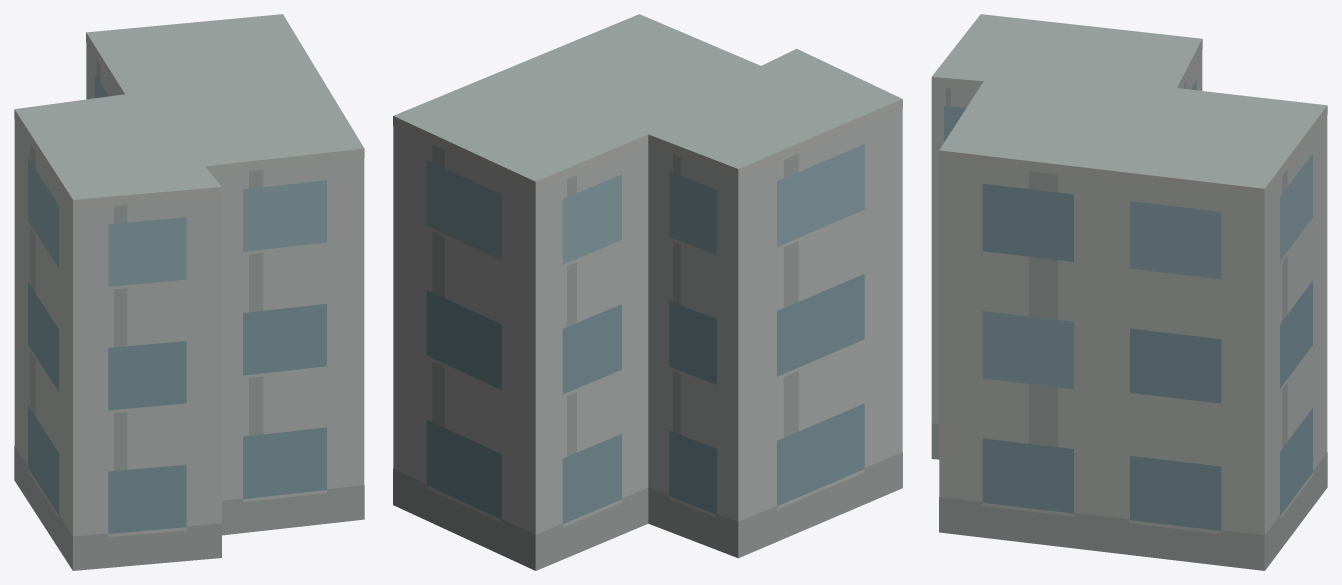
File: survey-upis-32875353.glb
3 views of the same model, side by side, from view 1: azimuth 30°, elevation 25°; view 2: azimuth 150°, elevation 25°; view 3: azimuth 270°, elevation 25° (orthographic). The views are drawn at different scales.
Visible parts, largest first — view 1: survey-upis-32875353.tmp; view 2: survey-upis-32875353.tmp; view 3: survey-upis-32875353.tmp.
Boxes of the visible parts, x1,y1,x2,y2 form: survey-upis-32875353.tmp: (14, 14, 364, 570); survey-upis-32875353.tmp: (393, 14, 902, 570); survey-upis-32875353.tmp: (931, 14, 1327, 570).
Bounding box in the file's own units: 8.99 × 9.15 × 8.61.
